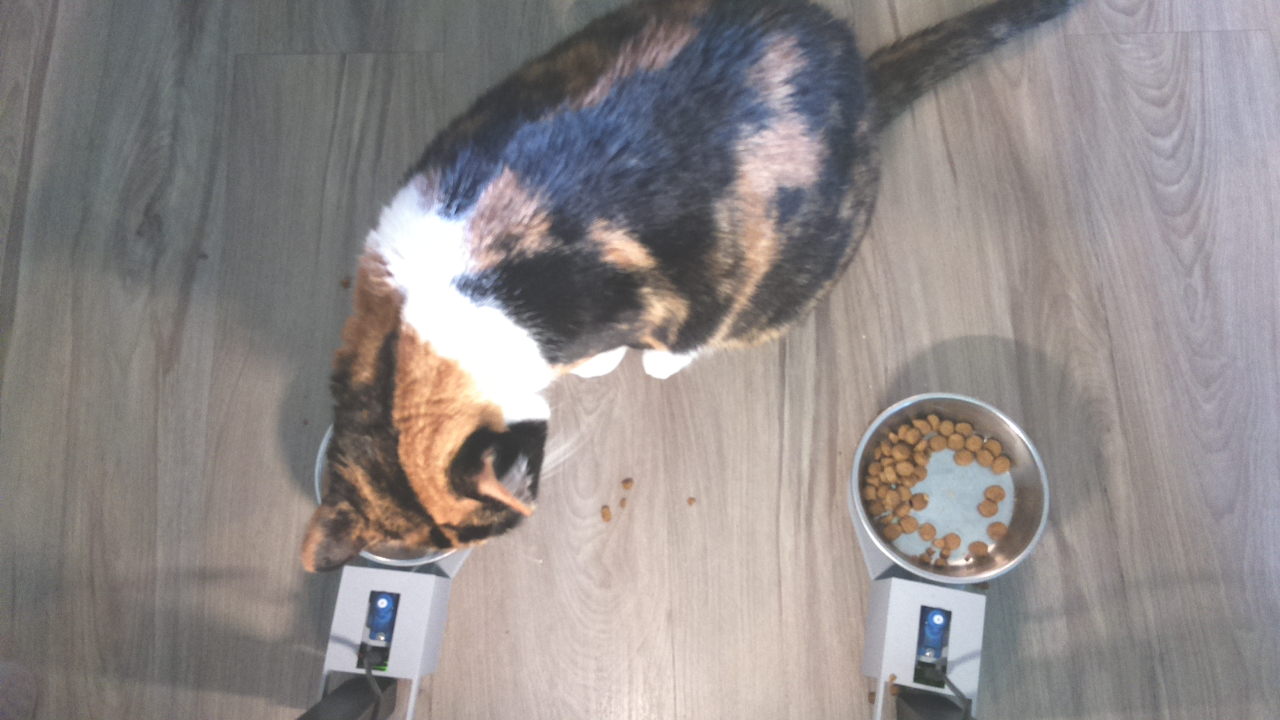bella_eating: (292, 255, 558, 590)
open_bowl: (844, 390, 1050, 589)
